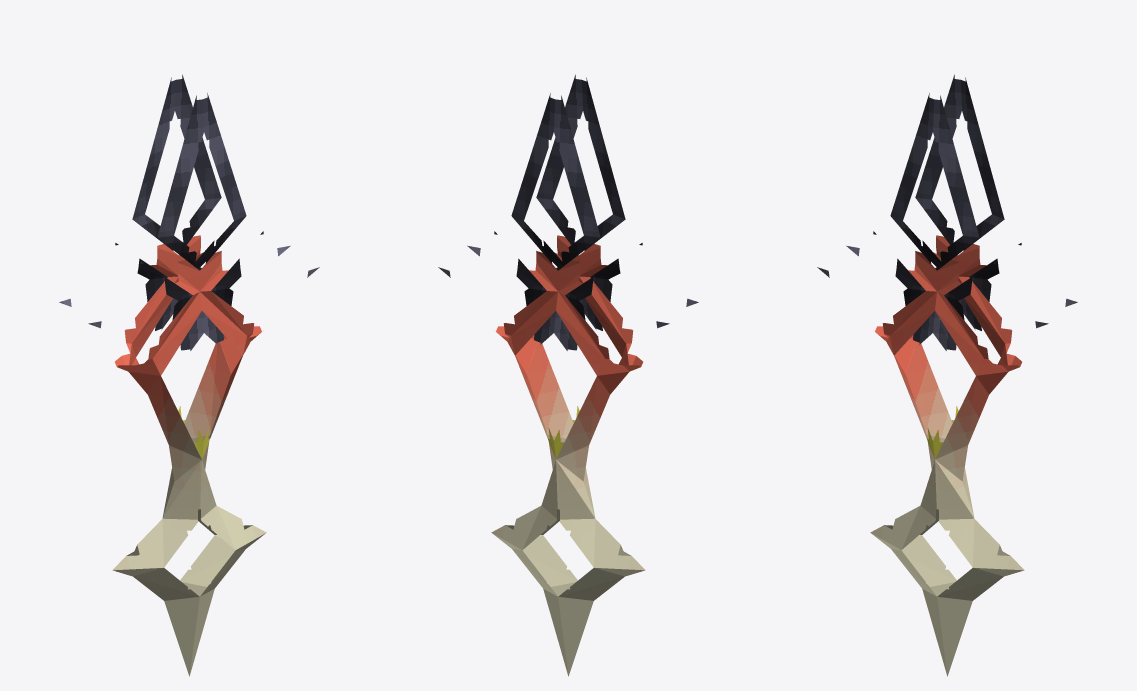
The model's file is meteore.obj.
The picture shows the model from 3 angles, left to right: view 1: azimuth 30°, elevation 25°; view 2: azimuth 150°, elevation 25°; view 3: azimuth 330°, elevation 25°; orthographic projection.
Bounding box in the file's own units: 48.69 × 88.01 × 9.
